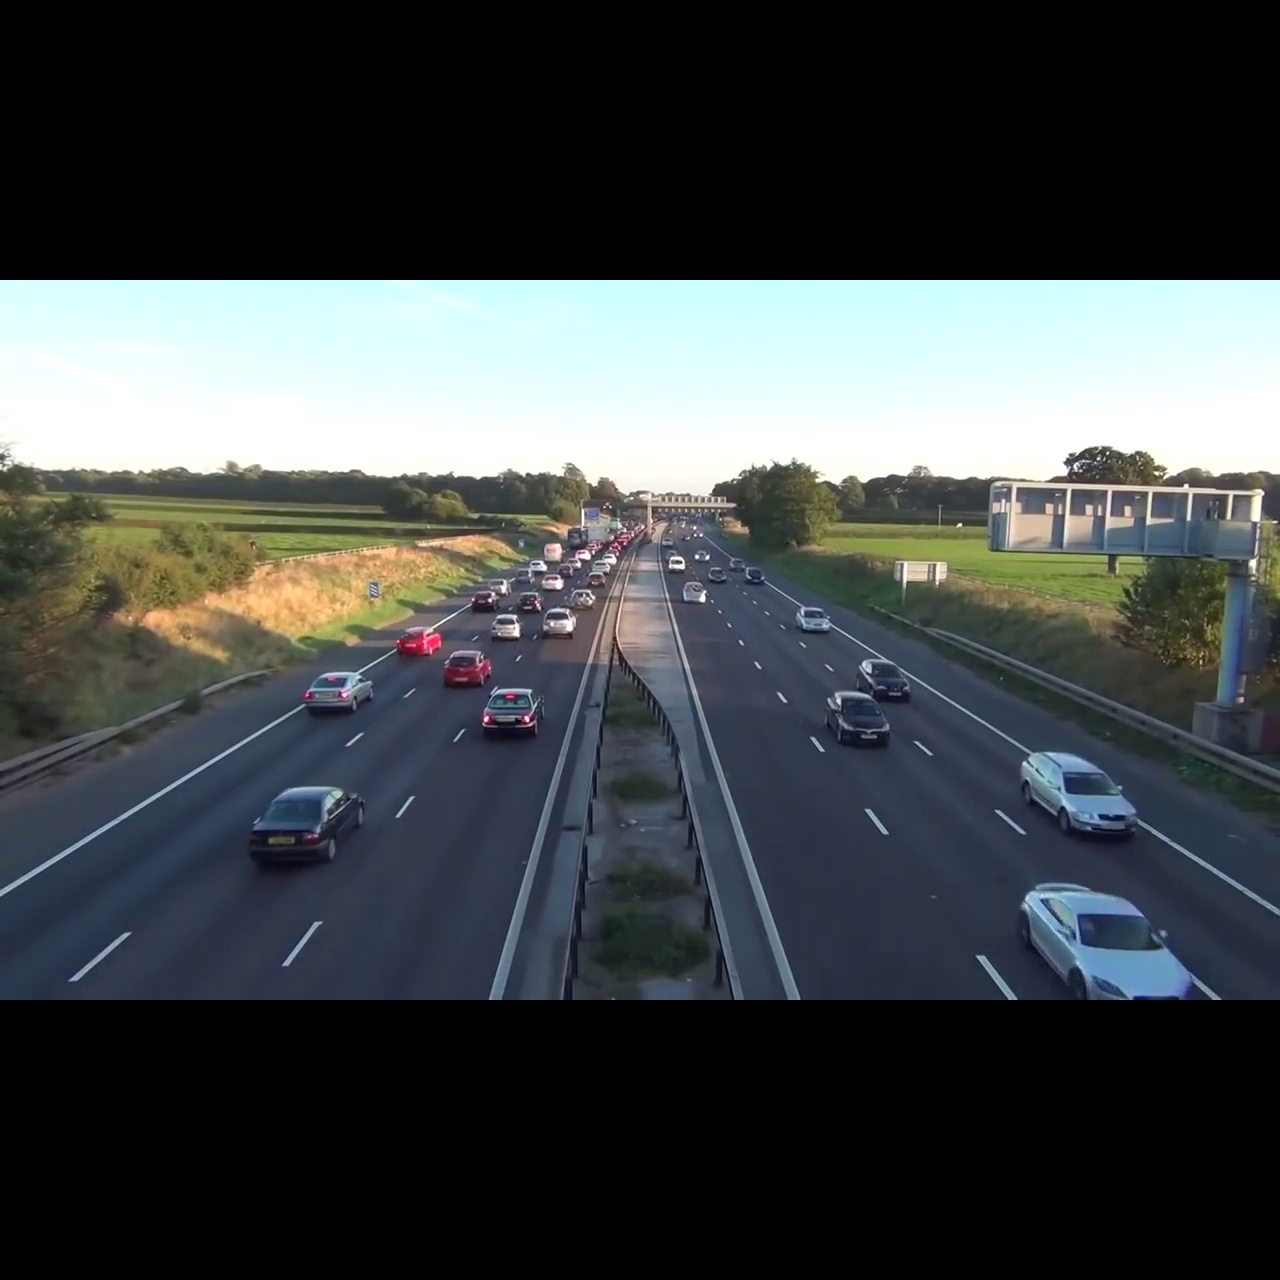vehicle: (1012, 874, 1199, 1000), (1013, 742, 1144, 840), (244, 782, 368, 867), (822, 687, 897, 755), (482, 686, 549, 742), (301, 669, 376, 717), (853, 658, 913, 704), (441, 649, 495, 689), (394, 625, 444, 659), (540, 607, 580, 642), (794, 606, 835, 635), (489, 612, 527, 642), (681, 580, 712, 607), (470, 590, 501, 612), (517, 591, 545, 613), (568, 588, 597, 610), (743, 566, 765, 586), (707, 567, 728, 585)
